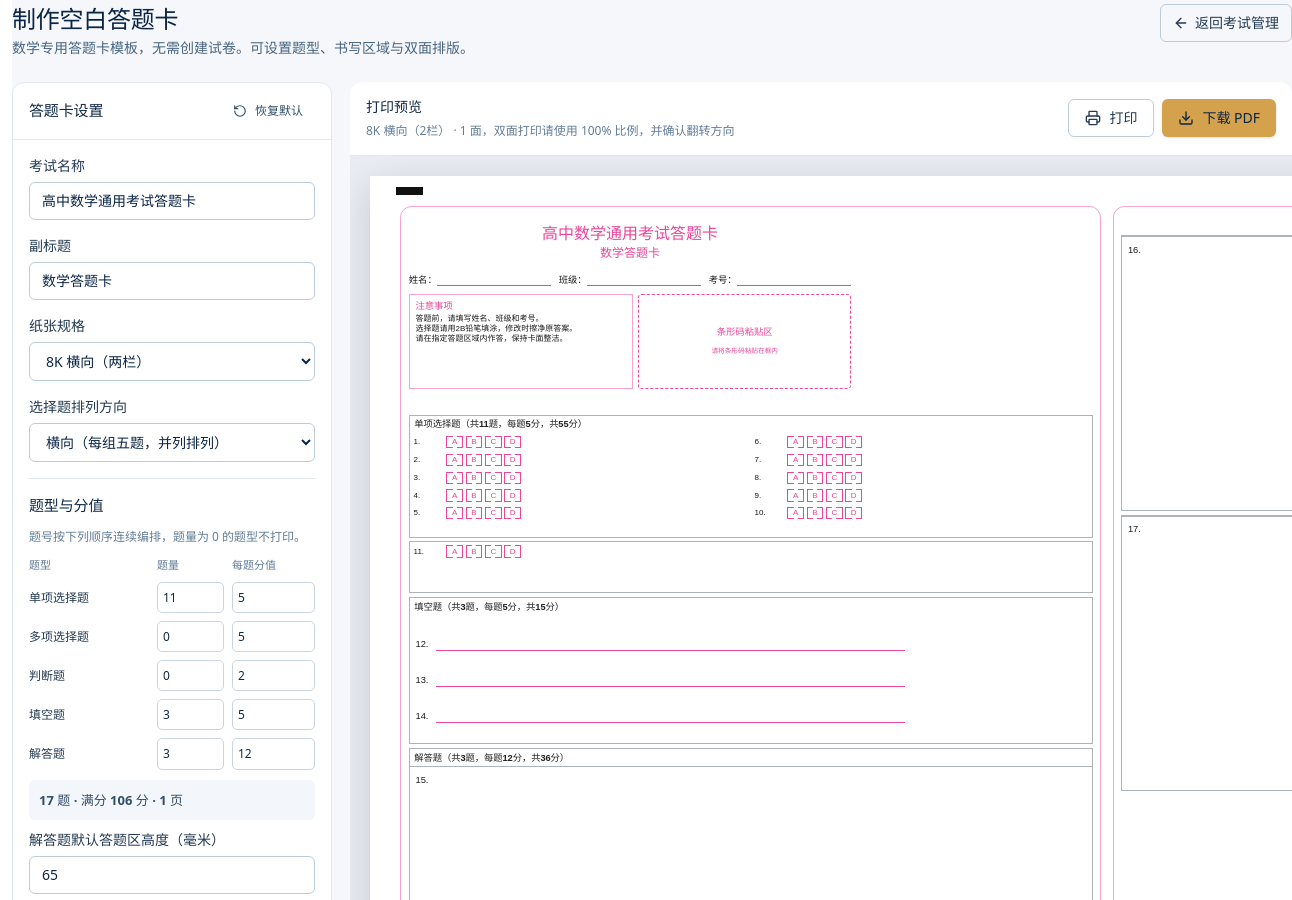
Scenario: 独立空白答题卡制作 › updates counts, total score, and section numbering
Replace the text in the number field named "单项选择题题量" with "3". click: (190, 597)
box: [157,582,224,613]
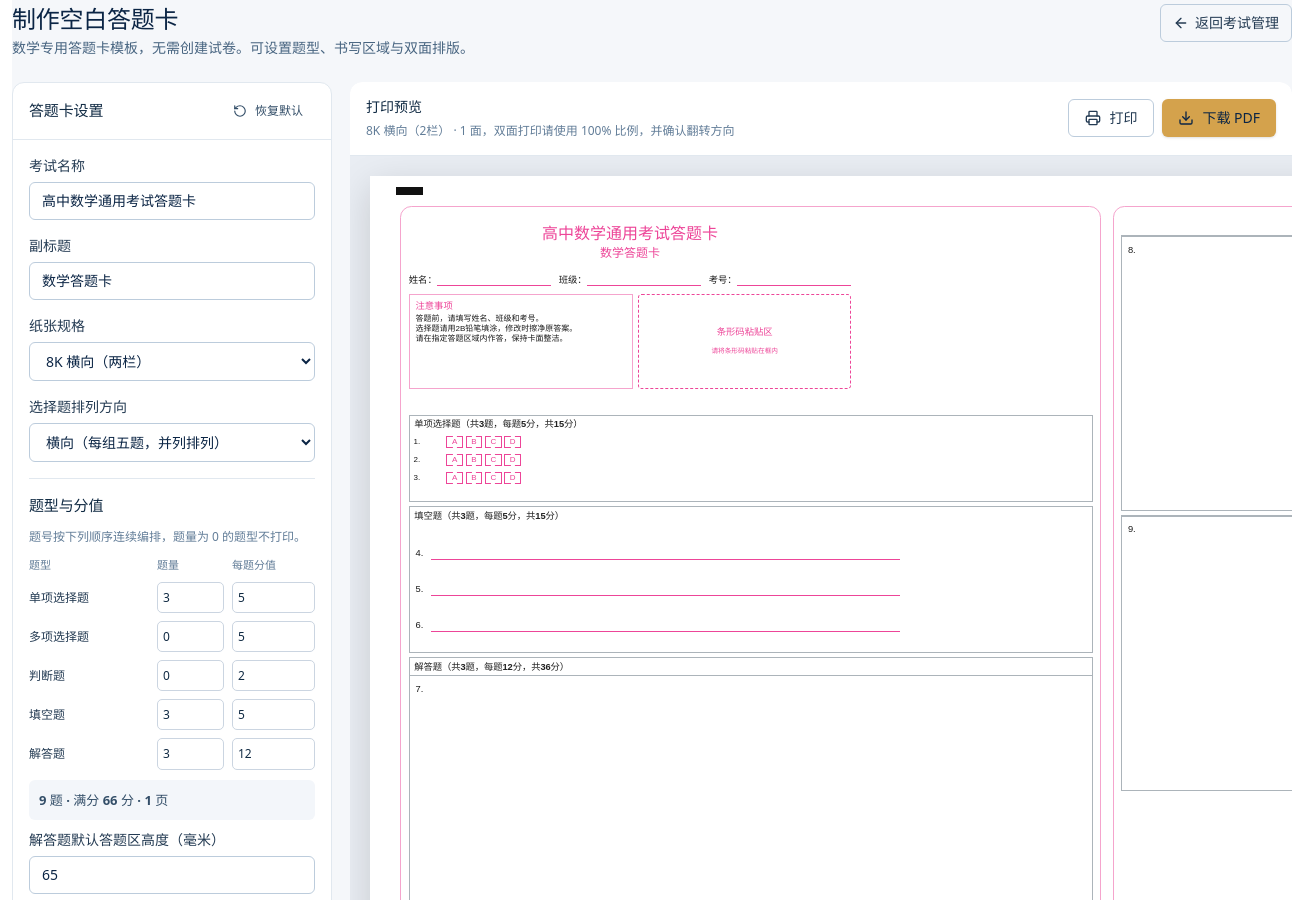
Replace the text in the number field named "单项选择题每题分值" with "2". click: (274, 597)
box: [232,582,315,613]
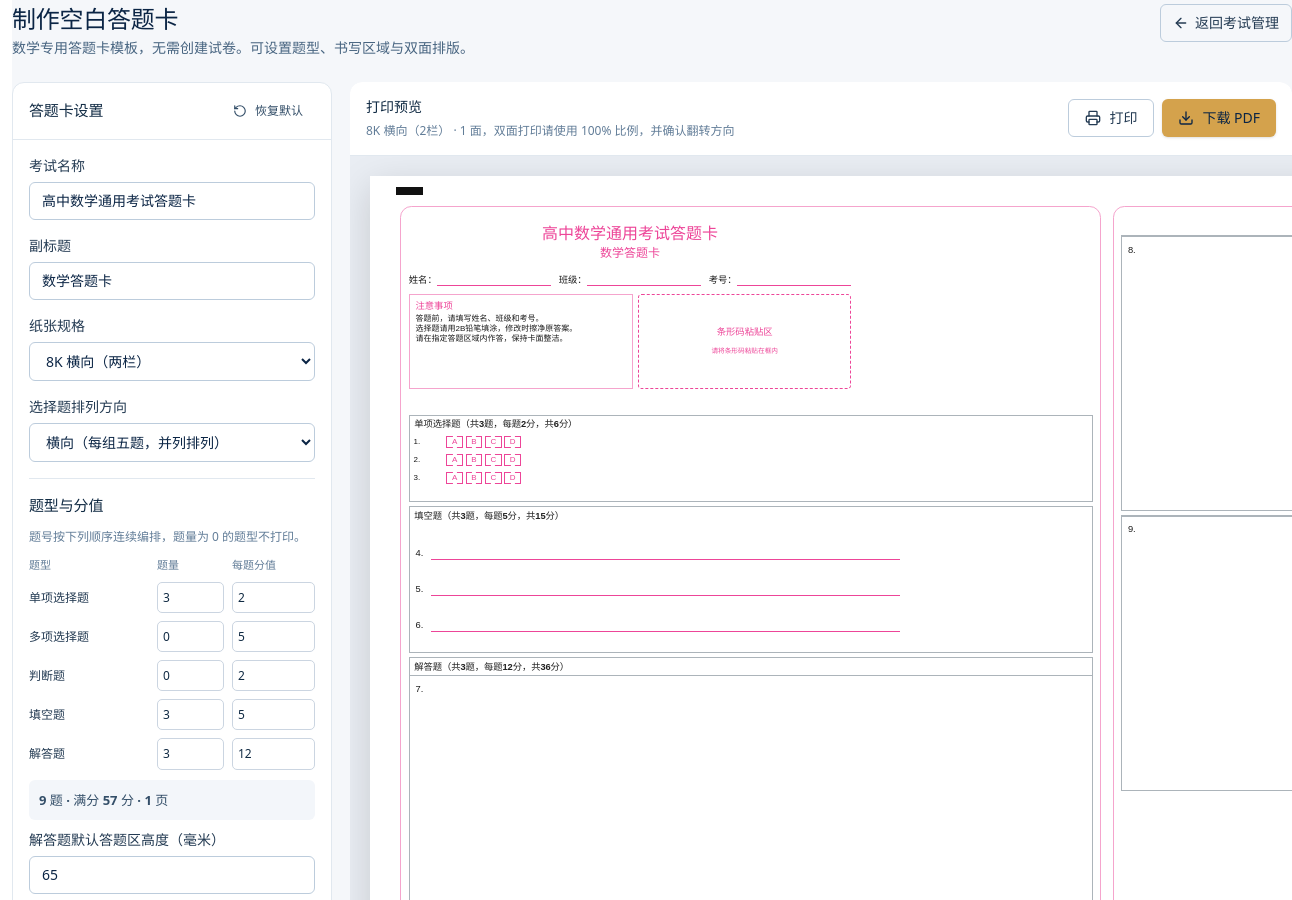
Now the text "9 题 · 满分 57 分 · 1 页" is shown, box [29,780,315,820]
